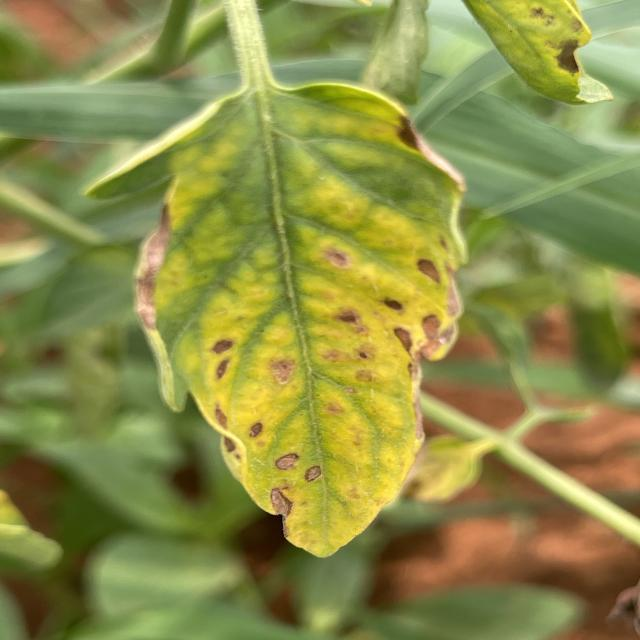tomato_early blight: (96, 78, 460, 555), (462, 0, 614, 106), (386, 428, 490, 508)
